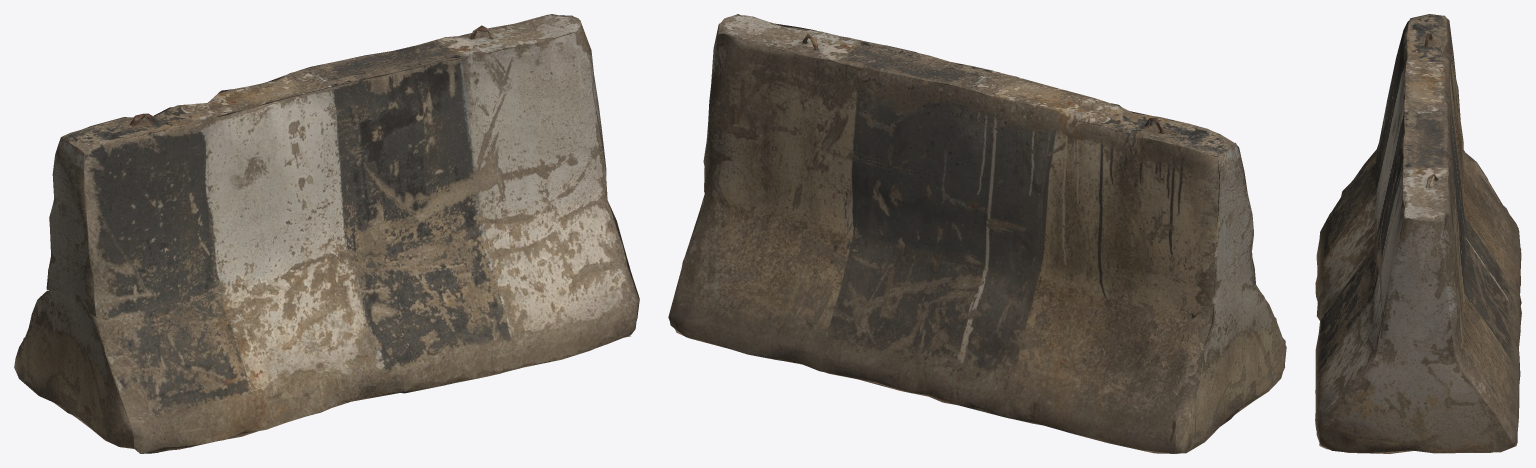
Rendered from concrete_road_barrier_lod.glb.
3 renders of one model, left to right at view 1: azimuth 30°, elevation 25°; view 2: azimuth 150°, elevation 25°; view 3: azimuth 270°, elevation 25°, orthographic. The views are drawn at different scales.
Visible parts, largest first — view 1: concrete_road_barrier; view 2: concrete_road_barrier; view 3: concrete_road_barrier.
Part boxes in pixels (x1=…): concrete_road_barrier: x1=14, y1=14, x2=639, y2=453; concrete_road_barrier: x1=668, y1=14, x2=1286, y2=453; concrete_road_barrier: x1=1315, y1=14, x2=1521, y2=453.
Bounding box in the file's own units: 1.54 × 0.8323 × 0.6344.
1 material, 1 textured.
